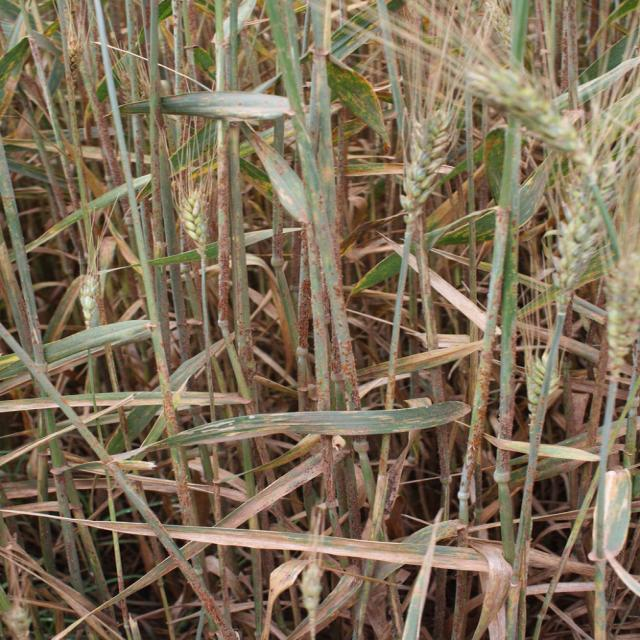wheat-septoria: (328, 62, 389, 141), (469, 539, 512, 640)
wheat-stemrust: (461, 271, 505, 493), (174, 549, 238, 640), (328, 261, 363, 410), (170, 446, 200, 527), (218, 121, 230, 320), (298, 229, 311, 349)
